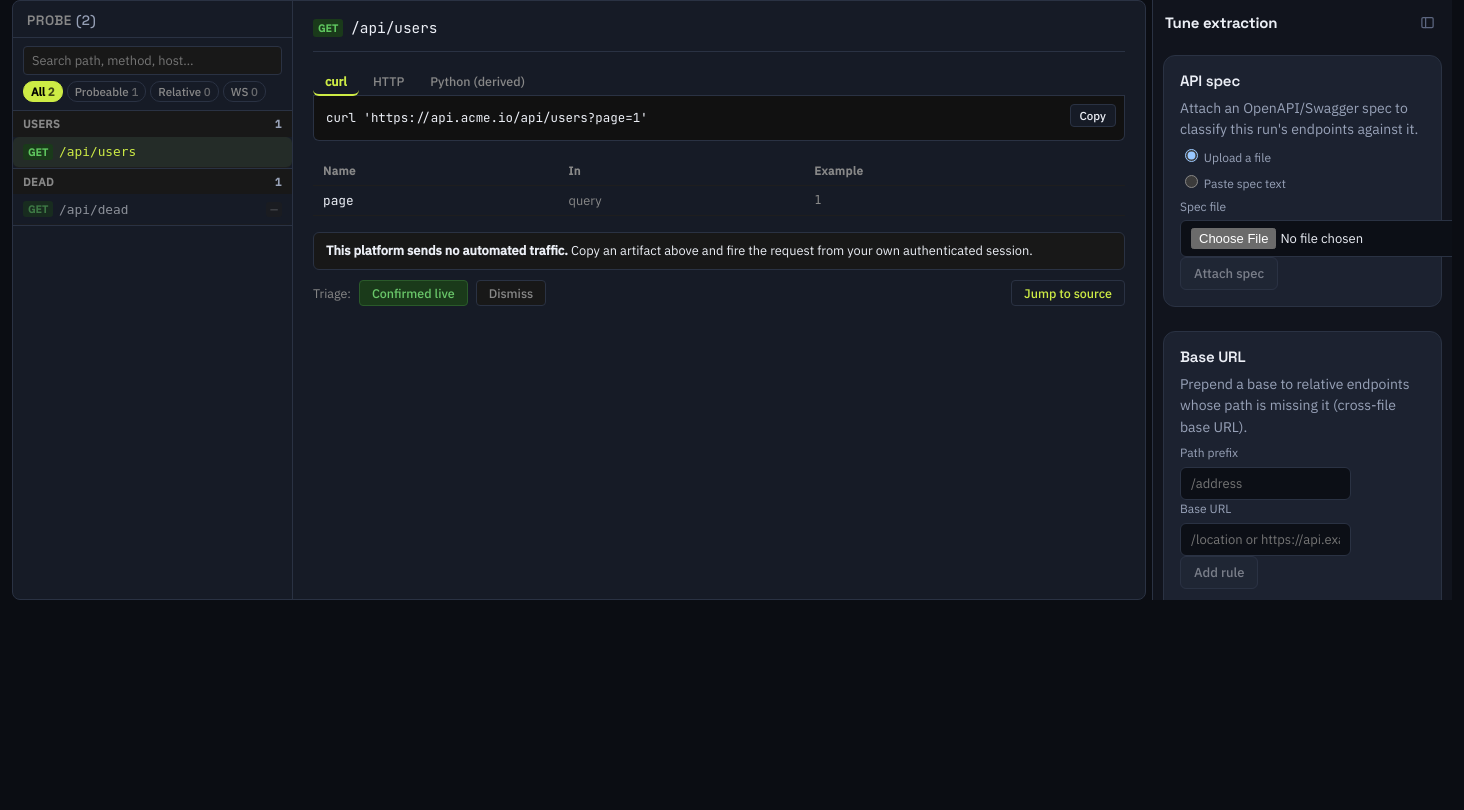
Test: ProbePanel › REQ-PB2: lane filter Probeable excludes non-probeable ops from the list
Click the button "Probeable 1". click: (106, 92)
box: [67,81,146,102]
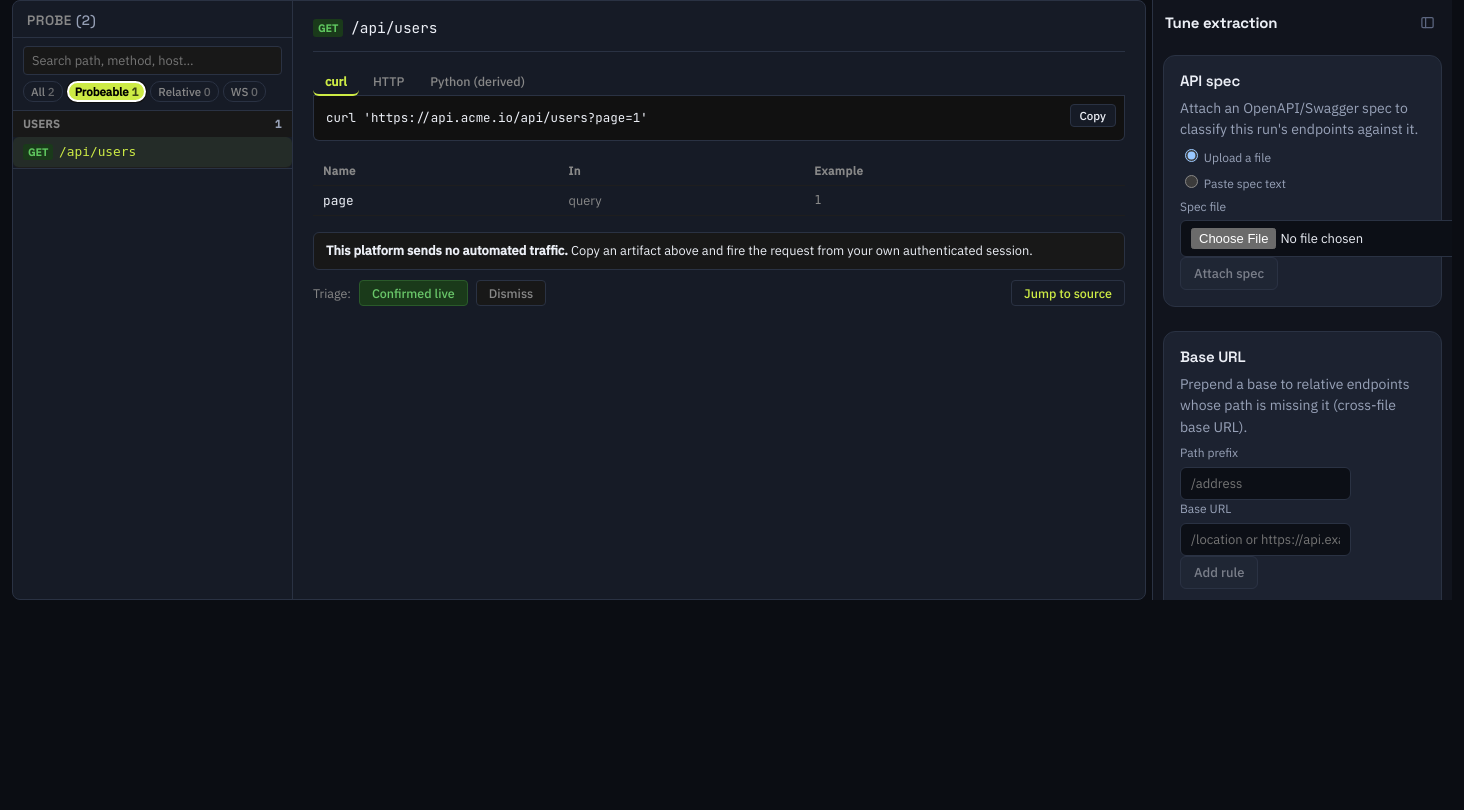
Now the button "/api/dead" is gone
